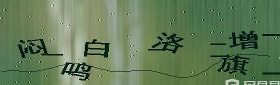chinese: (85, 35, 119, 64), (58, 57, 94, 84), (17, 35, 56, 57), (153, 30, 184, 57), (216, 55, 252, 75), (226, 28, 262, 47)
